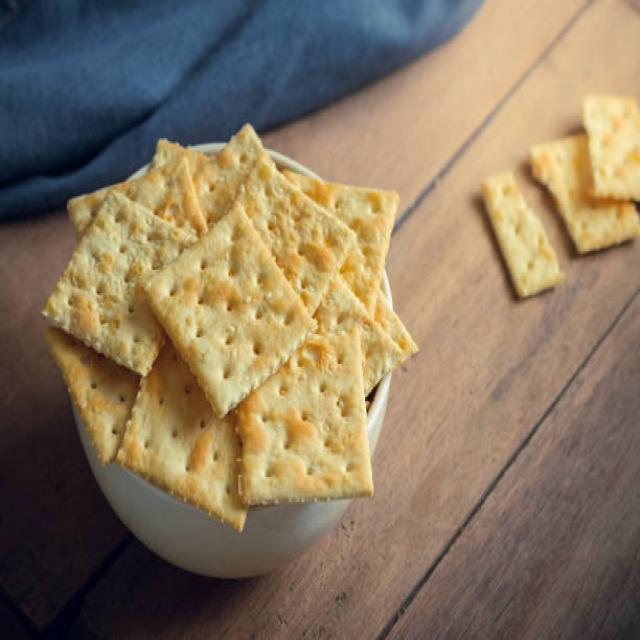Cracker: (147, 202, 310, 403), (42, 196, 207, 382)
